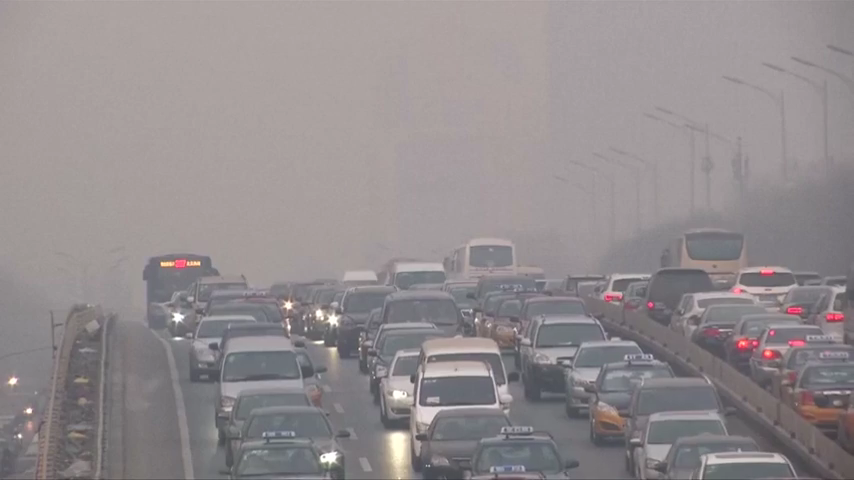bus: (657, 227, 752, 299), (142, 254, 217, 328), (444, 237, 521, 304)
car: (403, 359, 515, 472), (618, 373, 738, 477), (215, 336, 311, 443), (582, 353, 689, 447), (225, 405, 354, 480), (219, 387, 336, 469), (412, 332, 512, 427), (517, 311, 615, 403), (414, 405, 523, 480), (229, 345, 329, 425), (629, 406, 737, 480), (561, 337, 653, 423), (377, 290, 470, 375), (208, 322, 305, 400), (377, 344, 468, 426), (457, 424, 580, 480), (366, 321, 451, 396), (770, 333, 854, 407), (643, 432, 771, 480), (780, 350, 854, 431), (462, 271, 546, 342), (687, 304, 789, 361), (617, 275, 709, 338), (223, 431, 341, 480), (511, 295, 597, 361), (667, 291, 768, 347), (332, 284, 409, 357), (355, 304, 438, 370), (638, 265, 722, 330), (199, 302, 278, 371), (182, 316, 265, 380), (723, 312, 807, 374), (186, 274, 259, 345), (777, 282, 854, 348), (747, 324, 834, 382), (727, 263, 808, 325), (200, 288, 272, 354), (487, 292, 562, 353), (595, 272, 672, 330), (383, 258, 452, 322), (472, 288, 546, 346), (687, 449, 801, 480), (164, 288, 228, 337)
